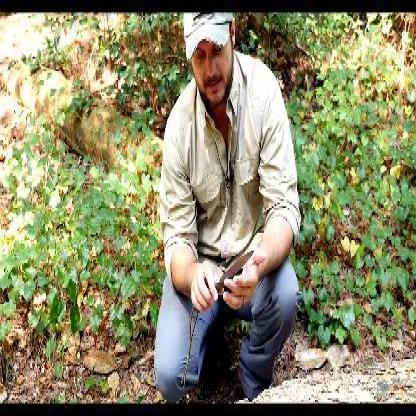knife: (190, 244, 258, 314)
